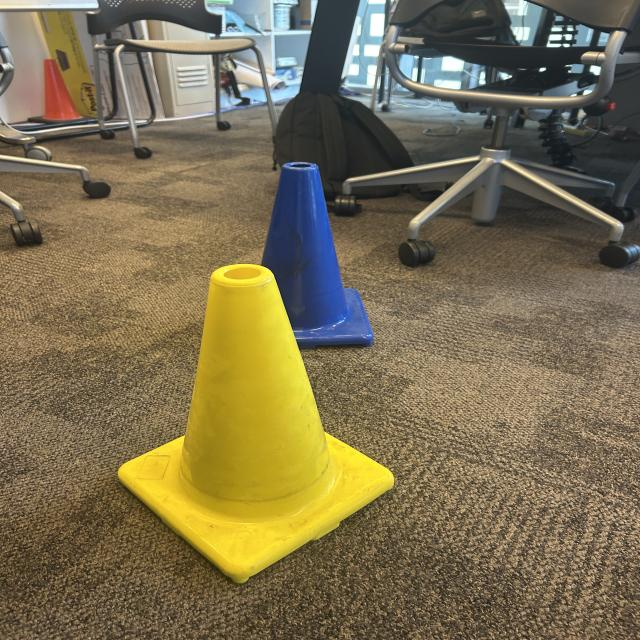blue_cone: (249, 162, 374, 346)
yellow_cone: (117, 264, 396, 582)
